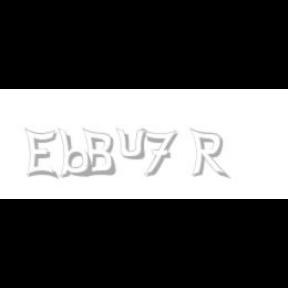7: (142, 128, 179, 178)
B: (82, 128, 116, 178)
E: (24, 128, 57, 180)
R: (189, 128, 227, 180)
b: (57, 128, 95, 178)
u: (116, 128, 150, 160)
